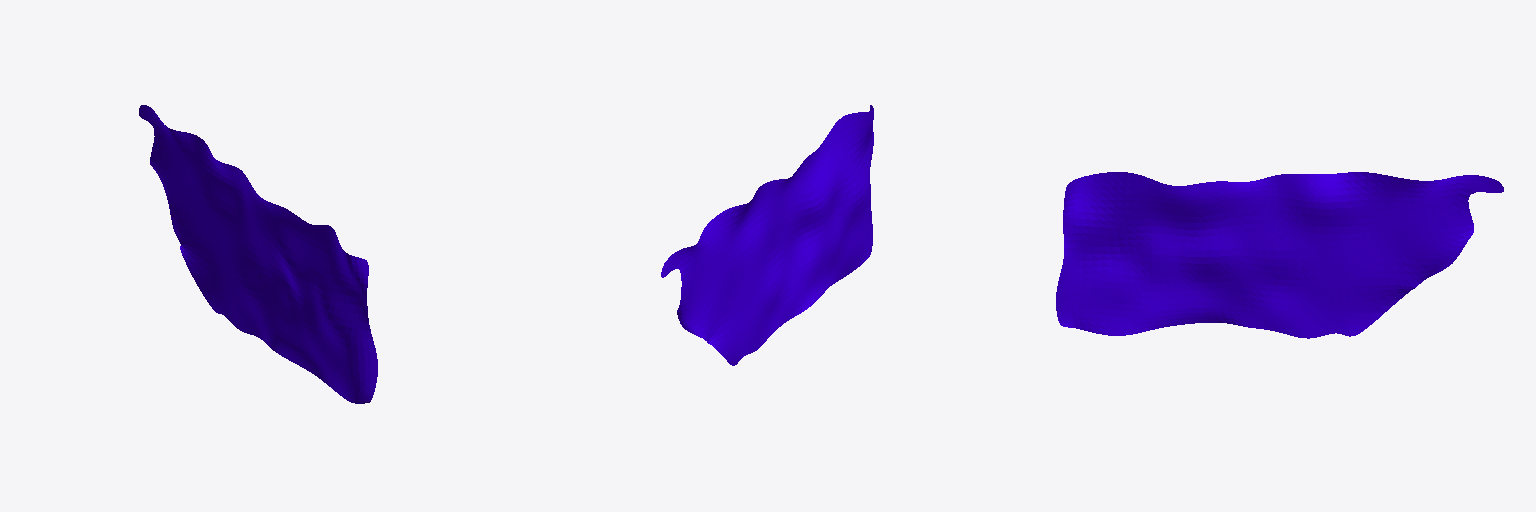
3 renders of one model, left to right at view 1: azimuth 30°, elevation 25°; view 2: azimuth 150°, elevation 25°; view 3: azimuth 270°, elevation 25°, orthographic.
Visible parts, largest first — view 1: ER3; view 2: ER3; view 3: ER3.
Boxes of the visible parts, x1,y1,x2,y2 form: ER3: [139, 105, 377, 403]; ER3: [661, 105, 873, 365]; ER3: [1056, 172, 1503, 338].
Bounding box in the file's own units: 0.0949 × 0.73 × 1.77.